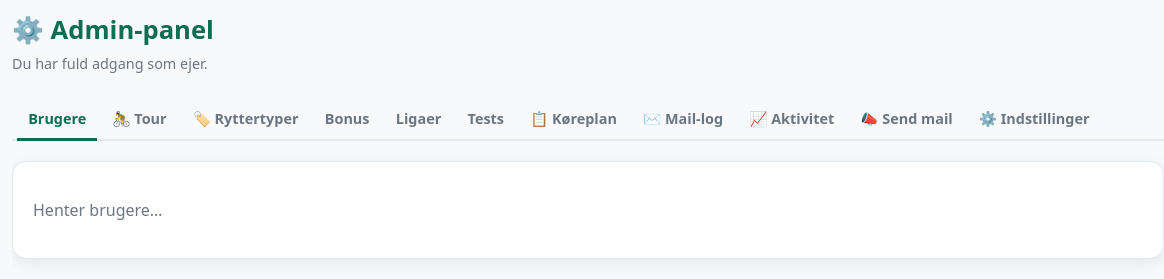
AdminPage › Owner-bruger (fuld adgang) › faneskift fra Brugere til Bonus viser bonus-indhold
Step 1. Click the tab with test id "tab-bonus" → (347, 120), box [314, 99, 381, 141]
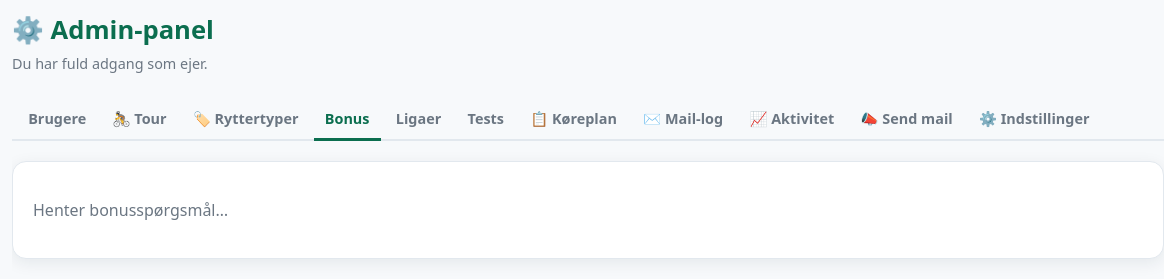
Expected: the text "Henter bonusspørgsmål…" is shown, [33, 199, 228, 221]
